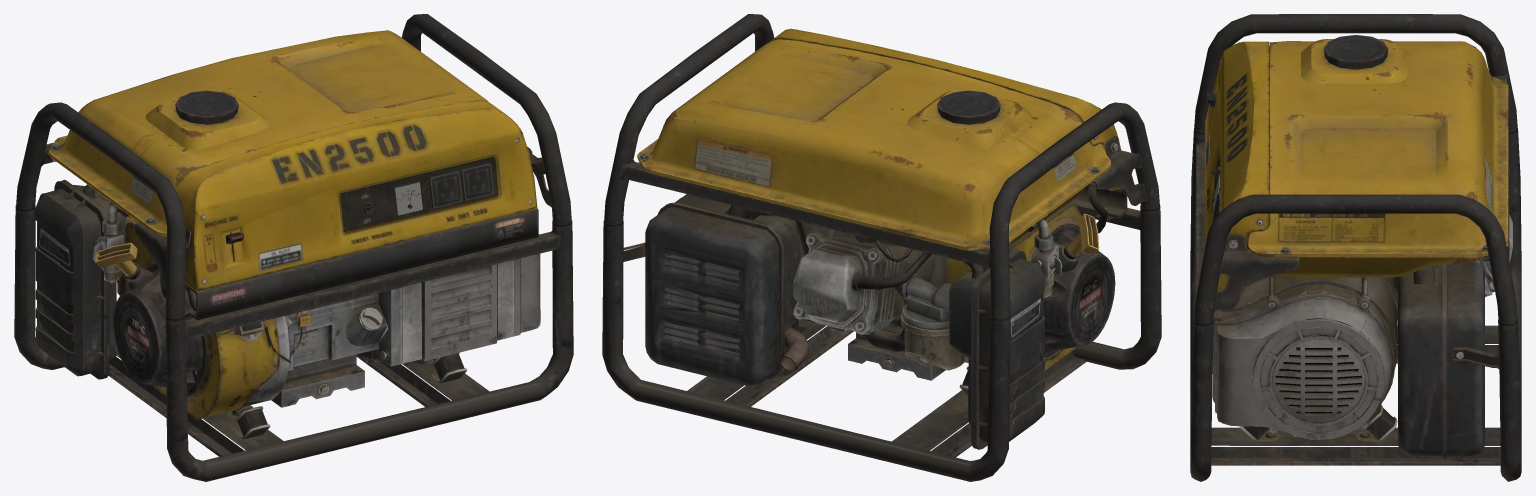
File: portable_generator.glb
The picture shows the model from 3 angles, left to right: view 1: azimuth 30°, elevation 25°; view 2: azimuth 150°, elevation 25°; view 3: azimuth 270°, elevation 25°; orthographic projection.
Visible parts, largest first — view 1: portable_generator; view 2: portable_generator; view 3: portable_generator.
Part boxes in pixels (x1,y1,x2,y2): portable_generator: [14, 14, 573, 481]; portable_generator: [602, 14, 1161, 481]; portable_generator: [1190, 14, 1521, 481].
Size of the model in its own units: 0.8182 by 0.5766 by 0.5642.
2 materials, 2 textured.
